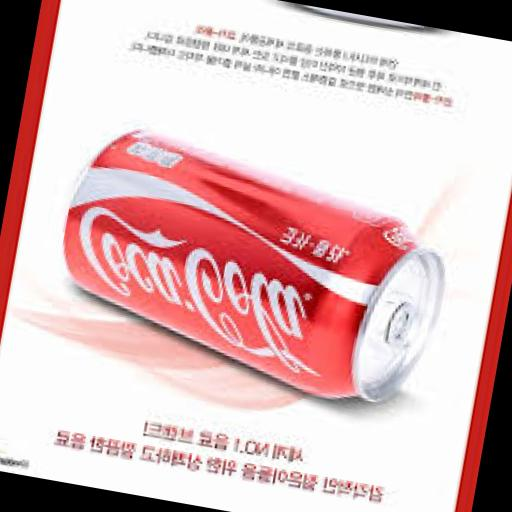Coca: (30, 112, 472, 422)
